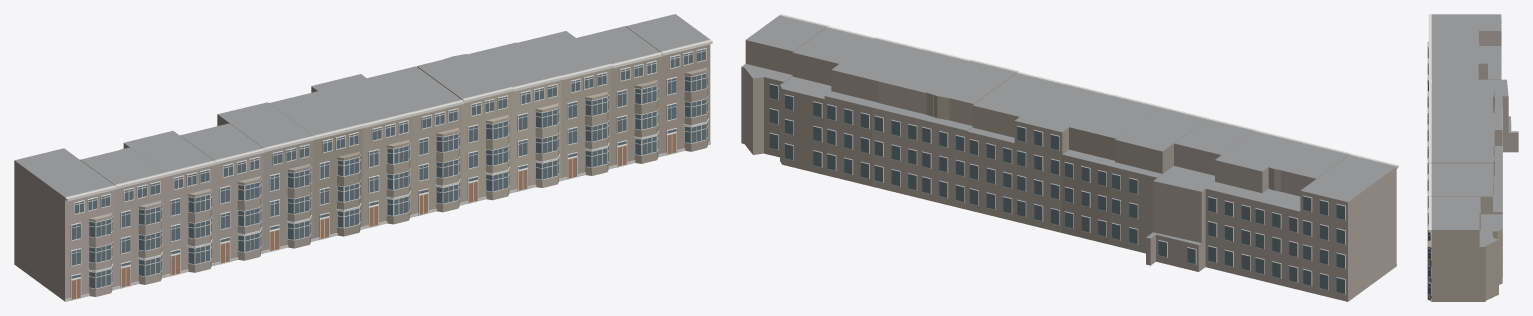
Rendered from chunk-face-boterdiep-37-59.glb.
3 renders of one model, left to right at view 1: azimuth 30°, elevation 25°; view 2: azimuth 150°, elevation 25°; view 3: azimuth 270°, elevation 25°, orthographic. The views are drawn at different scales.
Visible parts, largest first — view 1: face-boterdiep-37-59; view 2: face-boterdiep-37-59; view 3: face-boterdiep-37-59.
Boxes of the visible parts, x1,y1,x2,y2 form: face-boterdiep-37-59: (14, 14, 712, 301); face-boterdiep-37-59: (741, 14, 1398, 301); face-boterdiep-37-59: (1427, 14, 1518, 301).
Size of the model in its own units: 79.36 by 12.48 by 14.21.
